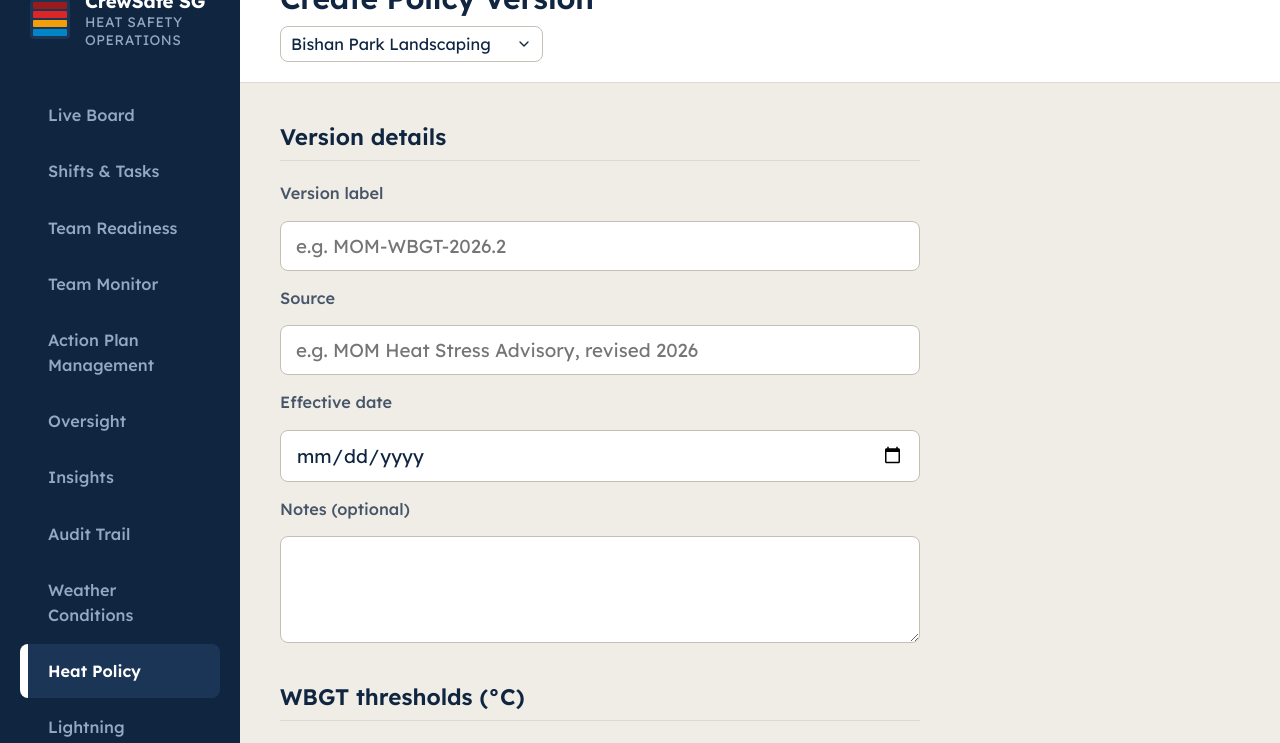
Test case: CreatePolicyVersionForm › lets a multi-site user switch sites and re-pre-fills from that site's active version
This screenshot has width=1280, height=743.
Expected: the field labelled "Version label" is shown, left=280, top=221, right=920, bottom=271
Select "NUS Campus Maintenance" in the dropdown named "Site" at (412, 44), box left=280, top=26, right=543, bottom=62
(page scrolled)
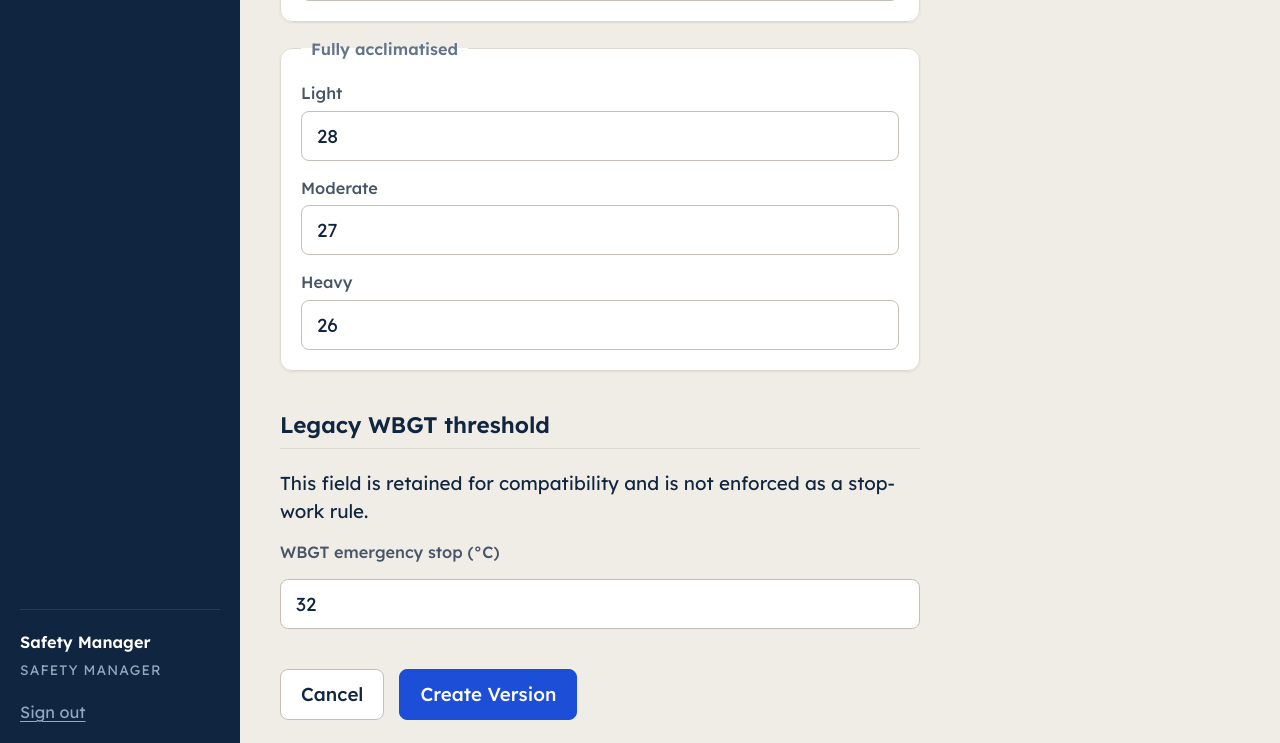
Expected: the number field labelled "WBGT emergency stop (°C)" holds "32", left=280, top=579, right=920, bottom=629
